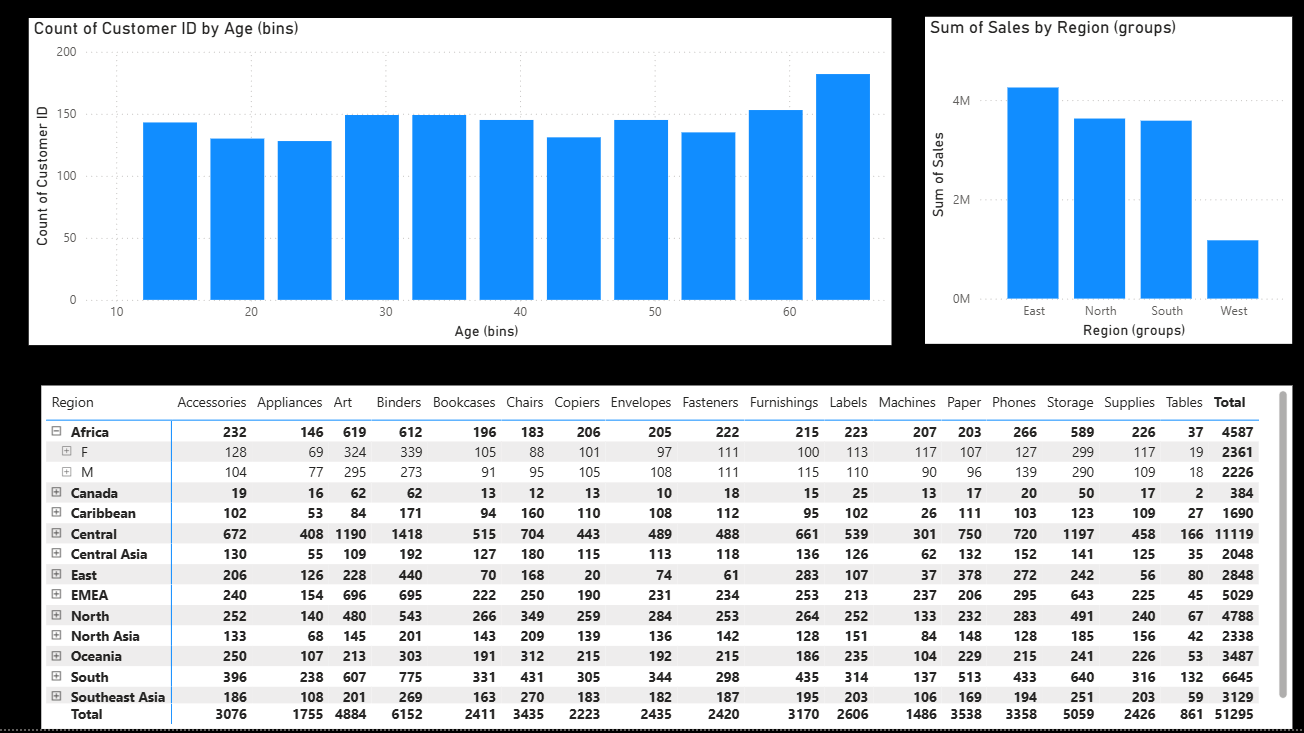

Layout of this report page (visuals, bound fields, positions):
{"tool":"powerbi","page":{"name":"Page 9","canvas":[1280,720],"ordinal":9},"visuals":[{"type":"pivotTable","fields":{"Columns":["Orders.Sub-Category"],"Rows":["Orders.Region","Customer.Gender","Customer.average"],"Values":["CountNonNull(Orders.Customer ID)"]},"box":[45.3,384.2,1224,336.2],"z":0},{"type":"clusteredColumnChart","fields":{"Category":["Orders.Region (groups)"],"Y":["Sum(Orders.Sales)"]},"box":[909.8,23.3,359.5,319.7],"z":1000},{"type":"clusteredColumnChart","fields":{"Category":["Customer.Age (bins)"],"Y":["CountNonNull(Customer.Customer ID)"]},"box":[32.9,24.7,843.9,319.7],"z":2000}]}

Visuals, with their boxes in screenshot pixels (x1, y1, x2, y2), scaled from the page's 1280x720 canvas onto the 1304x733 screenshot:
pivotTable - Orders.Sub-Category x Orders.Region: (46,391,1293,732)
clusteredColumnChart - Orders.Region (groups) x Sum(Orders.Sales): (927,24,1293,349)
clusteredColumnChart - Customer.Age (bins) x CountNonNull(Customer.Customer ID): (34,25,893,351)
